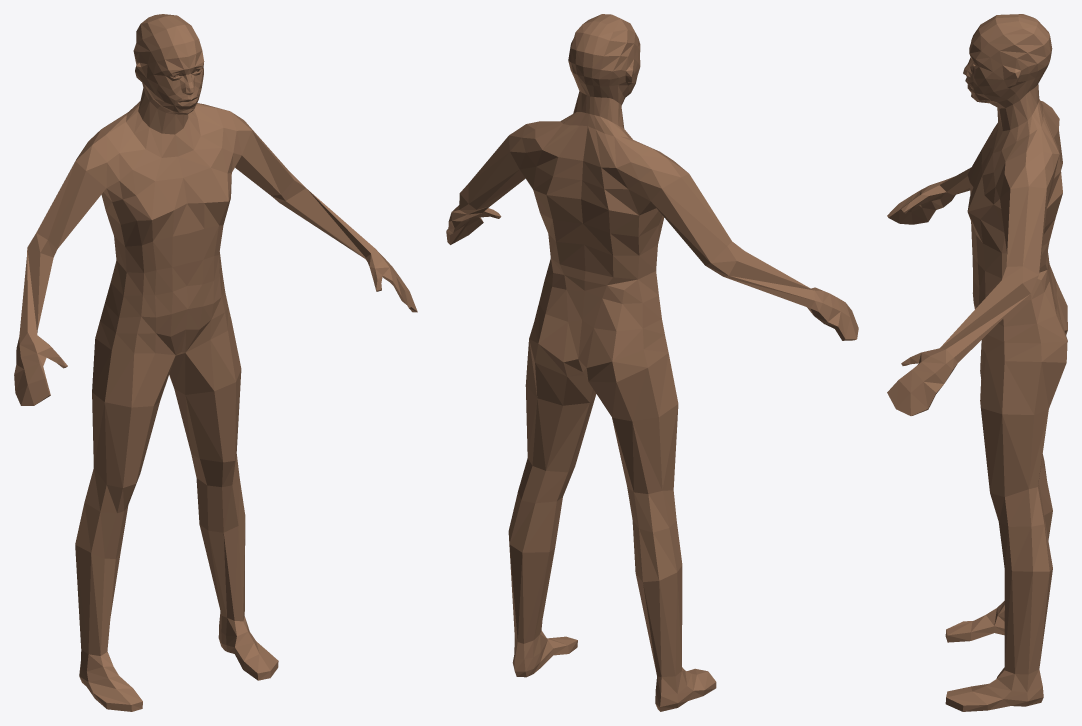
Rendered from basichumantest.obj.
3 views of the same model, side by side, from view 1: azimuth 30°, elevation 25°; view 2: azimuth 150°, elevation 25°; view 3: azimuth 270°, elevation 25° (orthographic). The views are drawn at different scales.
Visible parts, largest first — view 1: proxy741.obj; view 2: proxy741.obj; view 3: proxy741.obj.
Part boxes in pixels (bbox=[...]): proxy741.obj: bbox=[14, 14, 417, 711]; proxy741.obj: bbox=[446, 14, 858, 711]; proxy741.obj: bbox=[887, 14, 1067, 711].
Size of the model in its own units: 1.05 by 1.66 by 0.4159.
